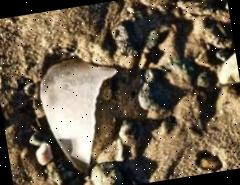glass: (37, 50, 134, 182)
